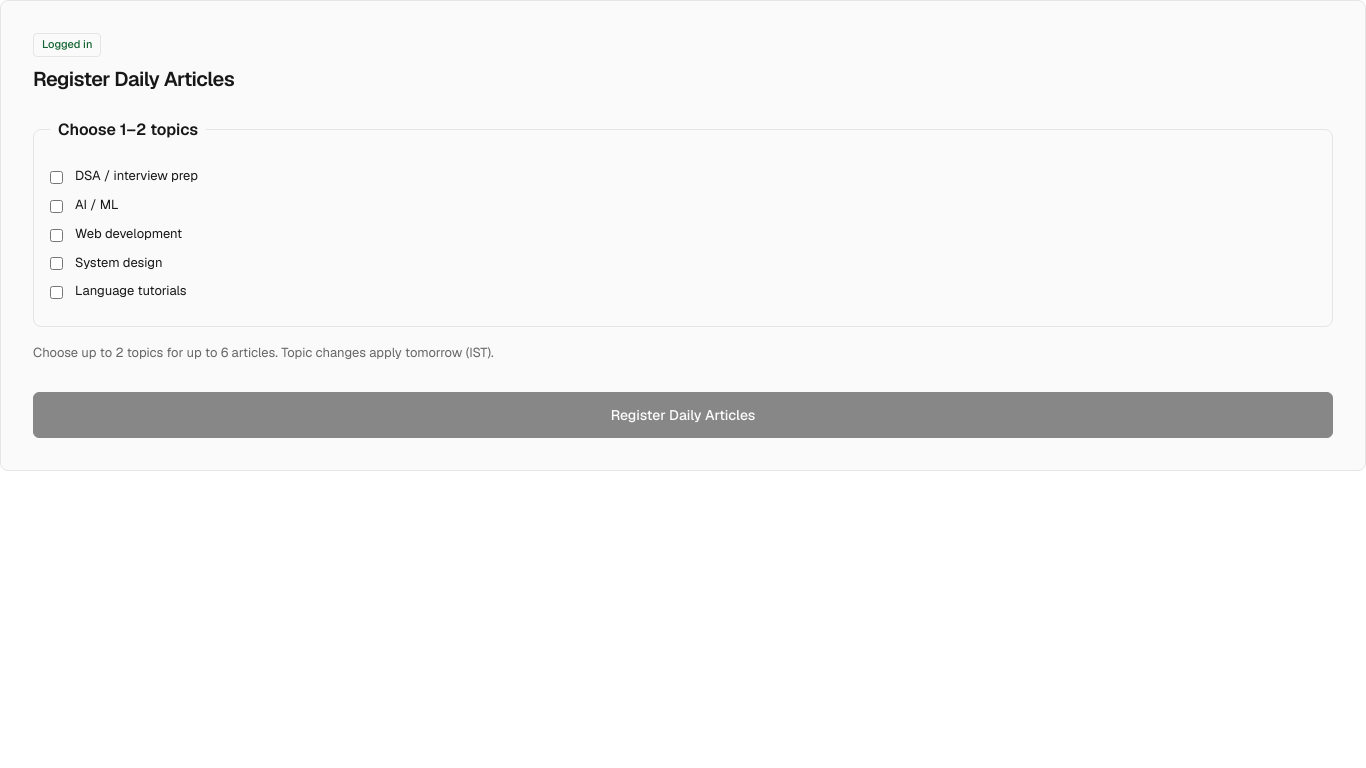
Test: Daily Articles interface › requires at least one topic, disables a third, and posts selected preferences
The image size is (1366, 768).
Check: the button "Register Daily Articles" is disabled, box [33, 392, 1333, 438]
Click the checkbox labelled "DSA / interview prep" at [56, 178], box [50, 171, 63, 184]
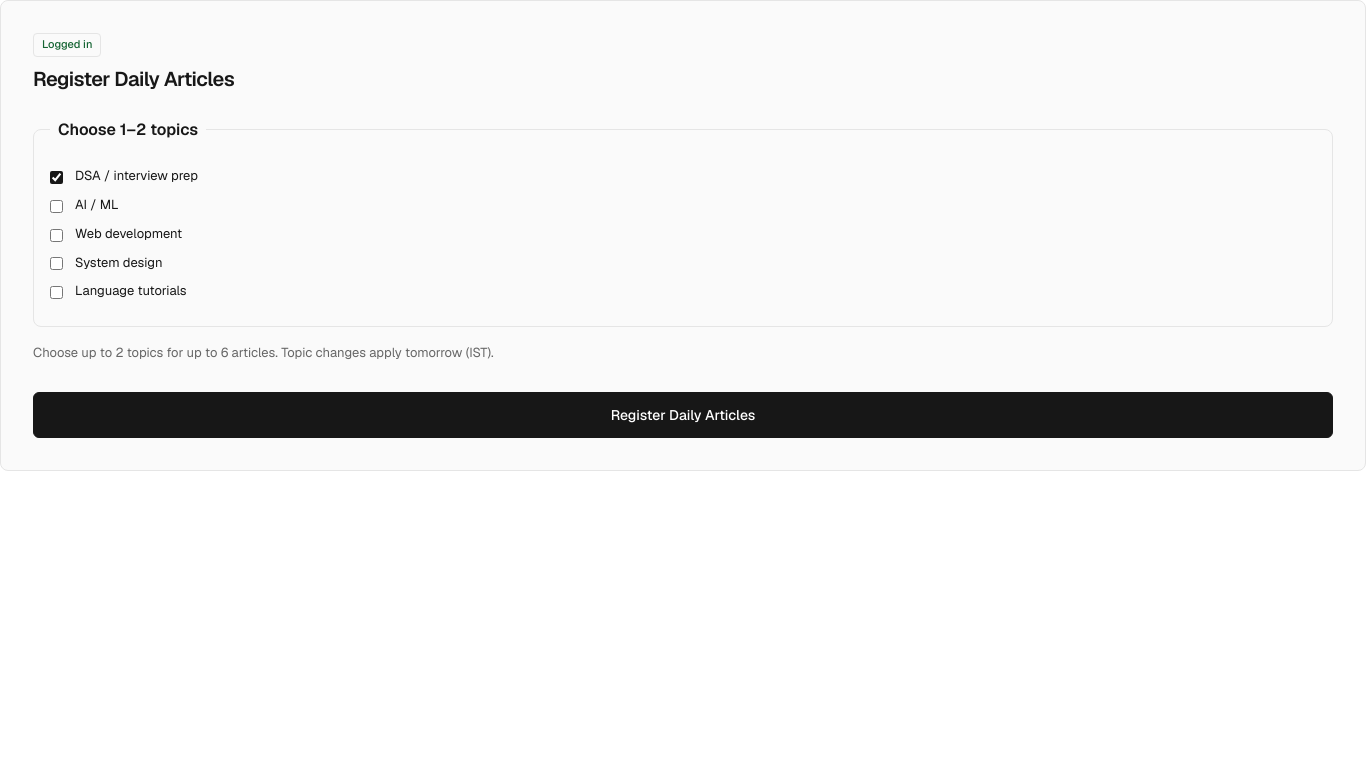
Click the checkbox labelled "AI / ML" at [56, 206], box [50, 200, 63, 213]
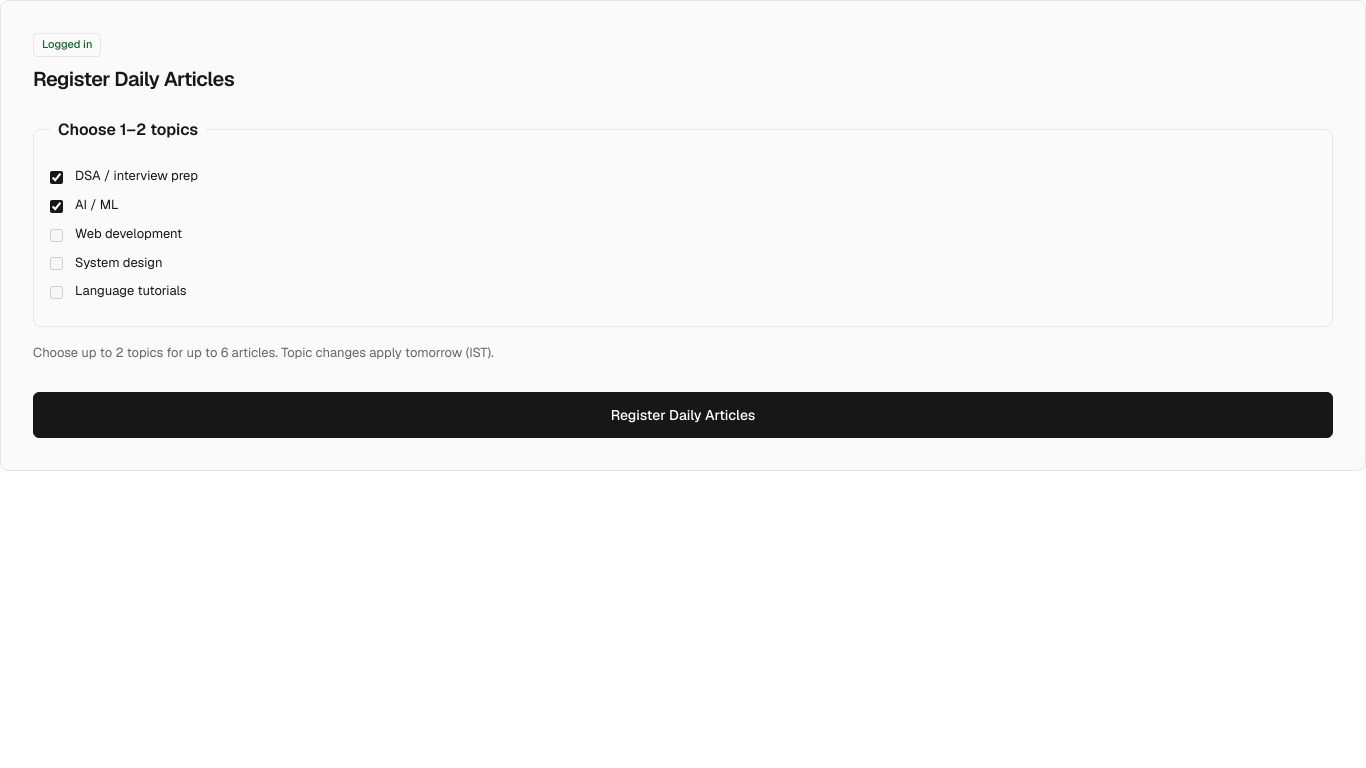
Check: the checkbox labelled "DSA / interview prep" is enabled, box [50, 171, 63, 184]
Check: the checkbox labelled "Web development" is disabled, box [50, 229, 63, 242]
Submit the form, box [33, 117, 1333, 438]
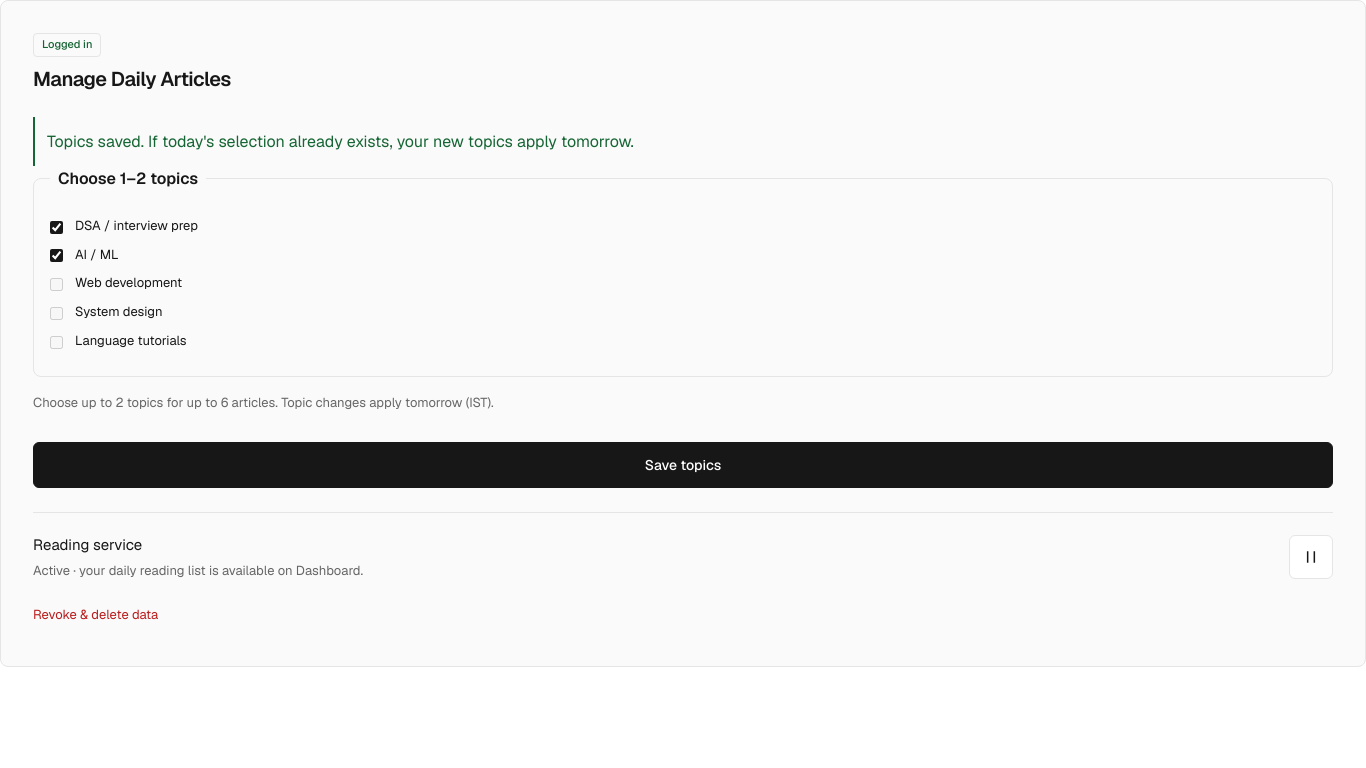
Check: the text "Manage Daily Articles" is shown, box [33, 66, 231, 92]
Check: the text "Topics saved" is shown, box [47, 131, 634, 152]
Check: the button named "Pause Daily Articles" is shown, box [1289, 535, 1333, 579]
